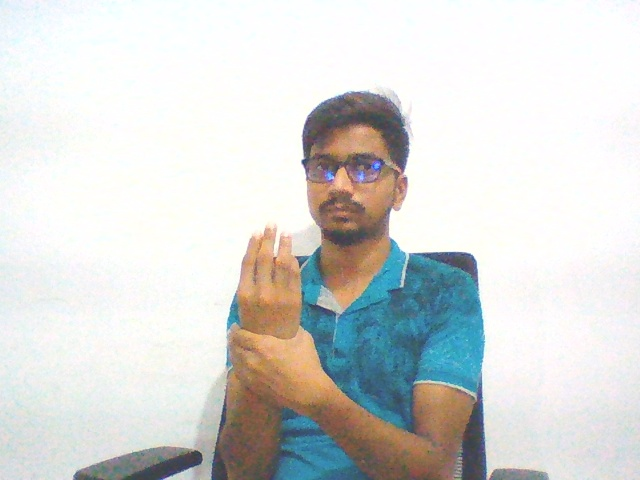tree: (224, 217, 335, 423)
